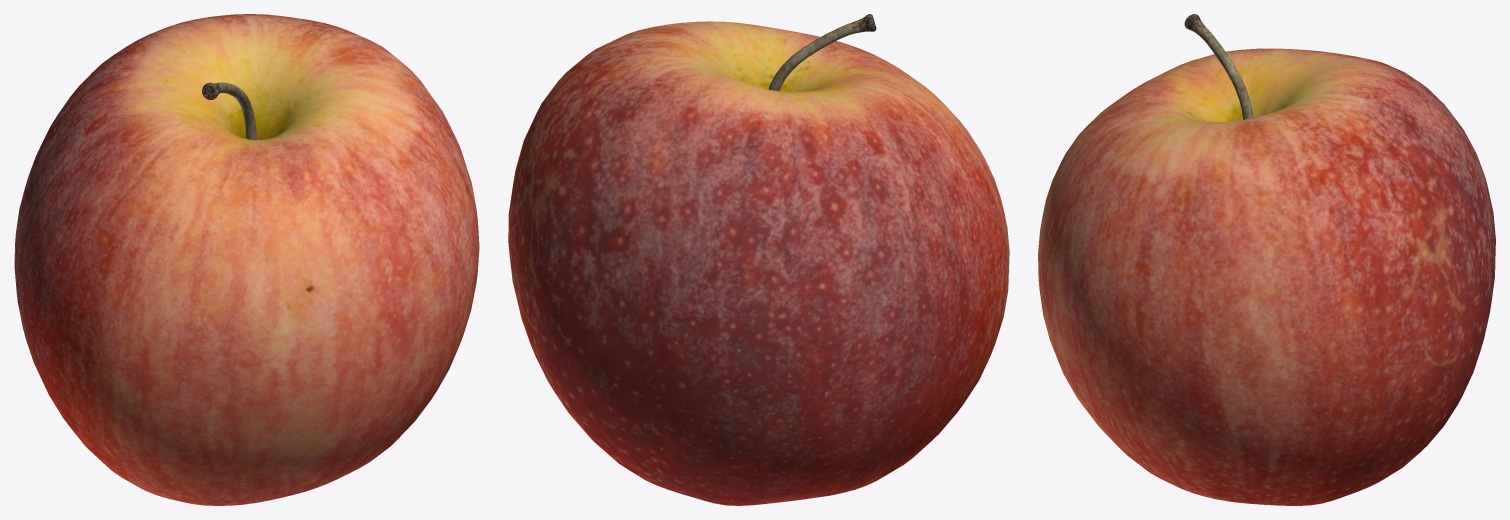
Rendered from apple.glb.
The picture shows the model from 3 angles, left to right: view 1: azimuth 30°, elevation 25°; view 2: azimuth 150°, elevation 25°; view 3: azimuth 270°, elevation 25°; orthographic projection. The views are drawn at different scales.
Parts seen in each view (by area): view 1: apple_body; view 2: apple_body; view 3: apple_body.
Boxes of the visible parts, box(x1,y1,x2,y2) form: apple_body: box(14, 14, 479, 505); apple_body: box(508, 14, 1009, 505); apple_body: box(1038, 14, 1495, 505).
Bounding box in the file's own units: 0.2376 × 0.2355 × 0.2321.
Materials: 2 (2 with a texture image).
